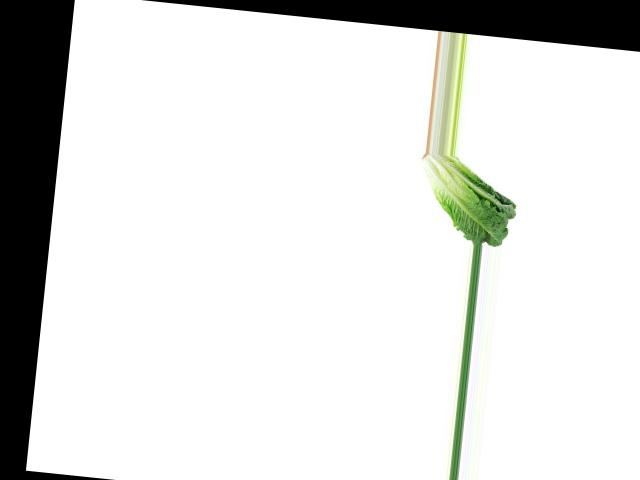lettuce: (412, 152, 522, 248)
